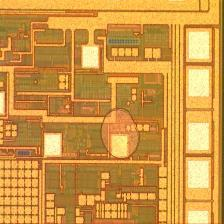BLOCK ETCH: (99, 106, 144, 164)
